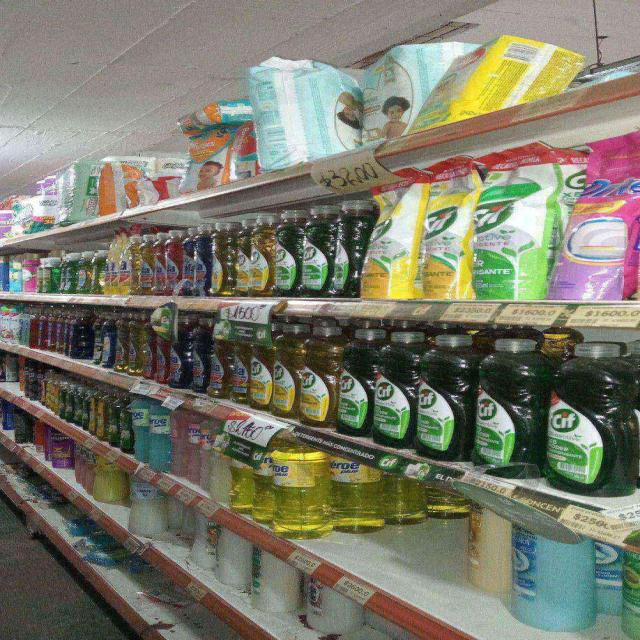ala_conc_rojo: (158, 235, 178, 296)
cif_conc_bot_amarilla: (298, 323, 334, 428), (272, 324, 297, 419)
cif_conc_botella_verde: (544, 343, 622, 495), (471, 337, 538, 478), (414, 336, 467, 461), (372, 330, 412, 448), (336, 328, 370, 437), (298, 205, 328, 298), (328, 203, 357, 298), (271, 210, 297, 297)
cif_conc_sachet_amarillo: (418, 161, 469, 300)
